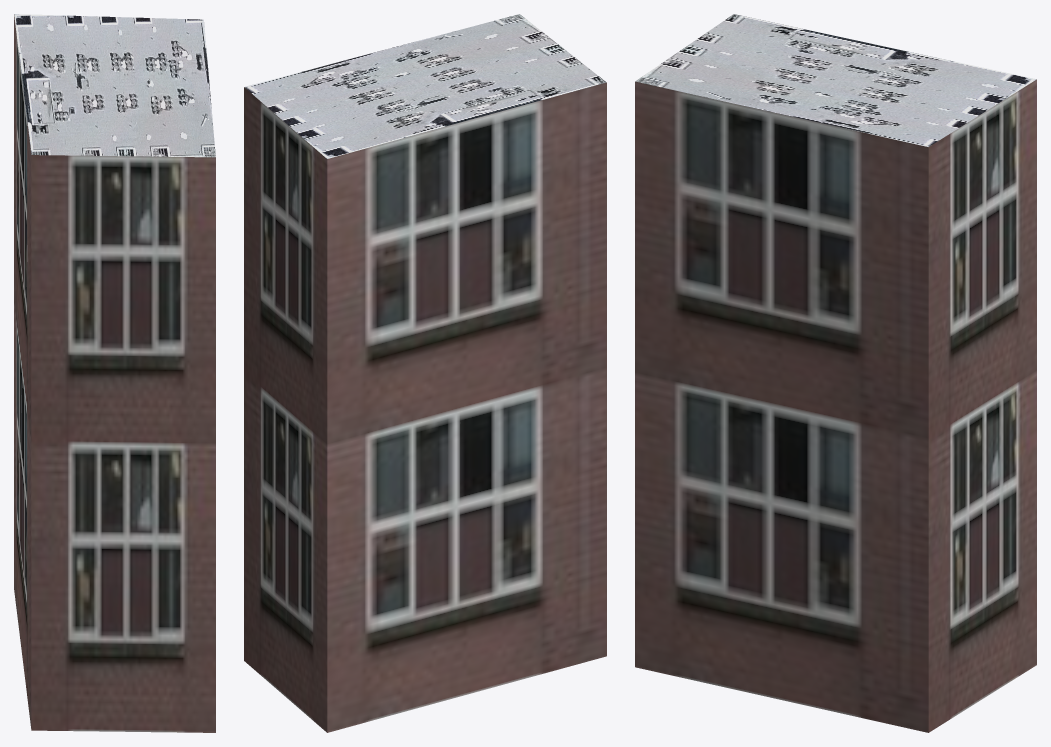
Rendered from ResTex__371.fbx.
The picture shows the model from 3 angles, left to right: view 1: azimuth 30°, elevation 25°; view 2: azimuth 150°, elevation 25°; view 3: azimuth 270°, elevation 25°; orthographic projection. The views are drawn at different scales.
Visible parts, largest first — view 1: CityEngineMaterial_12_m, CityEngineMaterial_8_m; view 2: CityEngineMaterial_12_m, CityEngineMaterial_8_m; view 3: CityEngineMaterial_12_m, CityEngineMaterial_8_m.
Part boxes in pixels (x1=…): CityEngineMaterial_12_m: x1=14, y1=14, x2=215, y2=732; CityEngineMaterial_8_m: x1=14, y1=14, x2=215, y2=157; CityEngineMaterial_12_m: x1=244, y1=82, x2=606, y2=732; CityEngineMaterial_8_m: x1=244, y1=14, x2=606, y2=158; CityEngineMaterial_12_m: x1=635, y1=79, x2=1036, y2=732; CityEngineMaterial_8_m: x1=635, y1=14, x2=1036, y2=146.
Size of the model in its own units: 2.93 by 6 by 3.73.
Materials: 2 (2 with a texture image).
